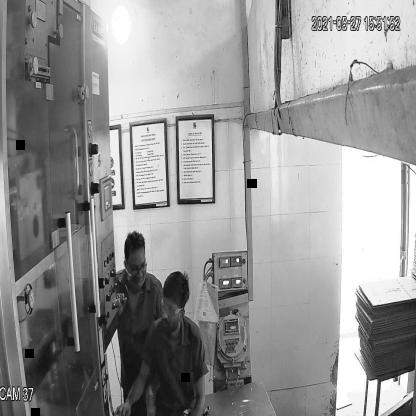goggles: (155, 294, 187, 320)
